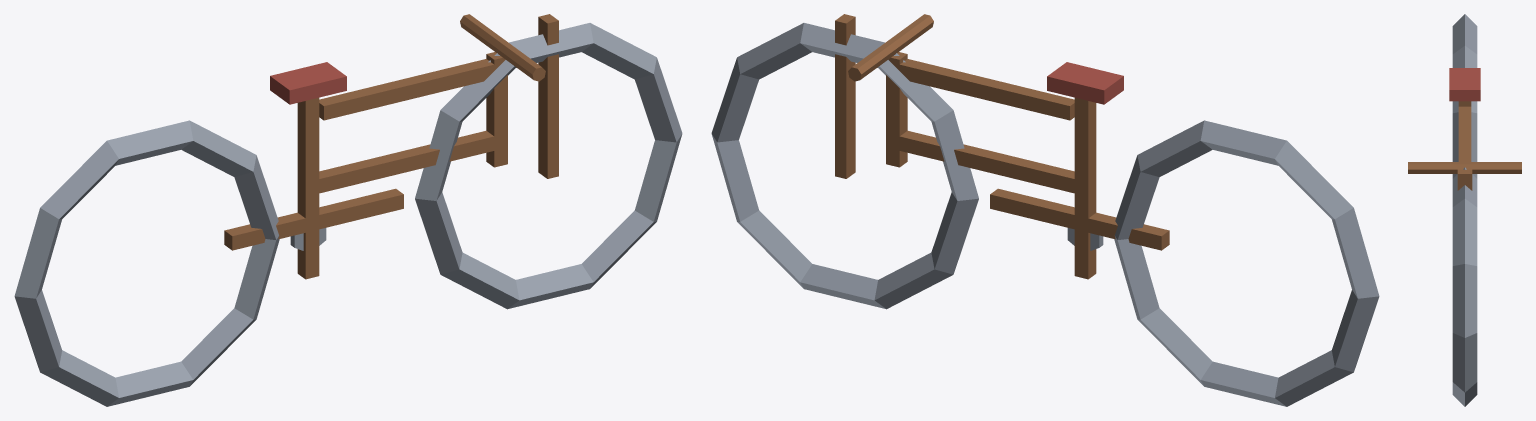
The model's file is bicycle.fbx.
3 views of the same model, side by side, from view 1: azimuth 30°, elevation 25°; view 2: azimuth 150°, elevation 25°; view 3: azimuth 270°, elevation 25° (orthographic). The views are drawn at different scales.
Visible parts, largest first — view 1: bicycle; view 2: bicycle; view 3: bicycle.
Part boxes in pixels (left/top/right/bottom): bicycle: left=14, top=14, right=682, bottom=406; bicycle: left=711, top=14, right=1379, bottom=406; bicycle: left=1408, top=14, right=1521, bottom=406.
Bounding box in the file's own units: 650 × 262 × 122.
